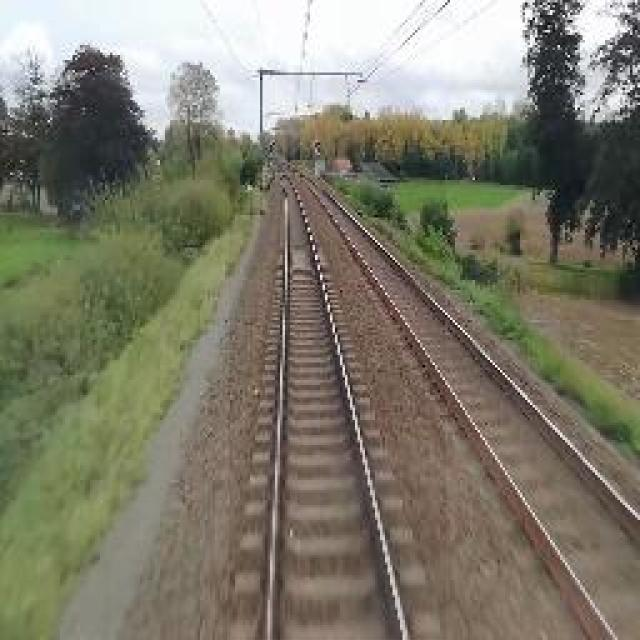rail: (230, 165, 447, 640)
